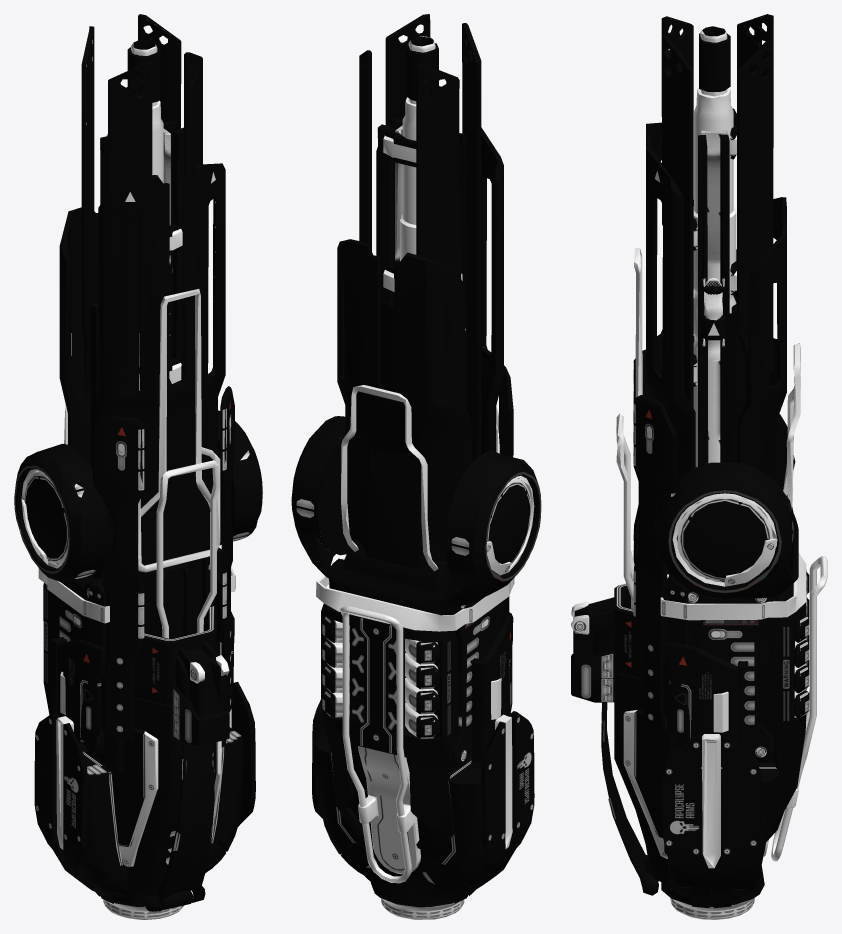
Rendered from hellion-scattergun-2.glb.
The picture shows the model from 3 angles, left to right: view 1: azimuth 30°, elevation 25°; view 2: azimuth 150°, elevation 25°; view 3: azimuth 270°, elevation 25°; orthographic projection.
Visible parts, largest first — view 1: core; view 2: core; view 3: core.
Boxes of the visible parts, x1,y1,x2,y2 form: core: (14,14,262,919); core: (291,14,541,919); core: (571,14,827,919).
Size of the model in its own units: 0.547 by 2.32 by 0.6157.
9 materials, 5 textured.
